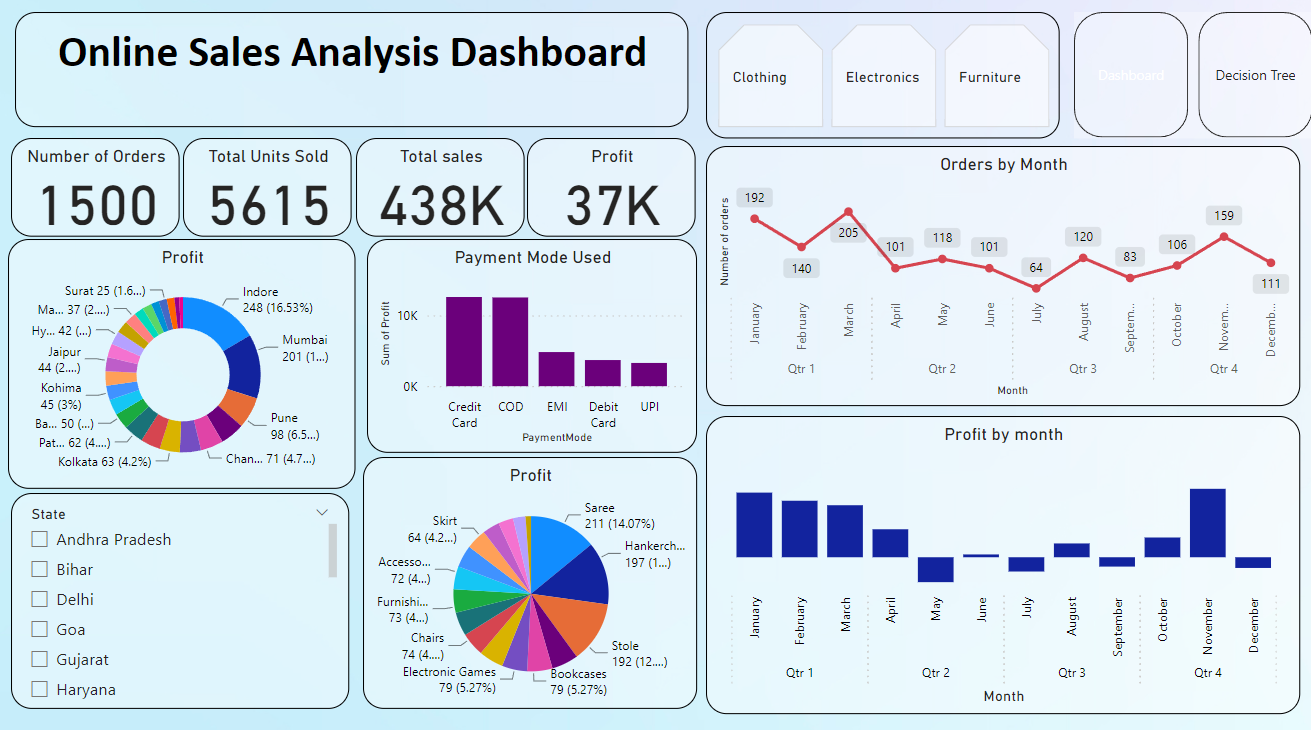

Layout of this report page (visuals, bound fields, positions):
{"tool":"powerbi","page":{"name":"Dashboard","canvas":[1280,720],"ordinal":0},"visuals":[{"type":"card","title":"Number of Orders","fields":{"Values":["CountNonNull(Details.Order ID)"]},"box":[13.6,142,164.4,96.3],"z":0},{"type":"card","title":"Profit","fields":{"Values":["Sum(Details.Profit)"]},"box":[515.5,142,164.4,96.3],"z":1000},{"type":"card","title":"Total Units Sold","fields":{"Values":["Sum(Details.Quantity)"]},"box":[180.9,142,164.4,96.3],"z":2000},{"type":"card","title":"Total sales","fields":{"Values":["Sum(Details.Amount)"]},"box":[349.2,142,164.4,96.3],"z":3000},{"type":"lineChart","title":"Orders by Month","fields":{"Y":["CountNonNull(Details.Order ID)"],"Category":["Orders.Order Date.Variation.Date Hierarchy.Quarter","Orders.Order Date.Variation.Date Hierarchy.Month"]},"box":[689.6,149.8,577.8,252.9],"z":4000},{"type":"clusteredColumnChart","title":"Profit by month","fields":{"Category":["Orders.Order Date.Variation.Date Hierarchy.Quarter","Orders.Order Date.Variation.Date Hierarchy.Month"],"Y":["Sum(Details.Profit)"]},"box":[689.6,412.4,577.8,289.8],"z":5000},{"type":"clusteredColumnChart","title":"Payment Mode Used","fields":{"Y":["Sum(Details.Profit)"],"Category":["Details.PaymentMode"]},"box":[359.9,240.2,321,208.1],"z":6000},{"type":"advancedSlicerVisual","title":"Profit","fields":{"Values":["Details.Category"]},"box":[689.6,19.5,344.3,122.6],"z":7000},{"type":"pieChart","title":"Profit","fields":{"Y":["CountNonNull(Details.Order ID)"],"Category":["Details.Sub-Category"]},"box":[356,452.3,324.9,245.1],"z":8000},{"type":"donutChart","title":"Profit","fields":{"Y":["CountNonNull(Details.Order ID)"],"Category":["Orders.City"]},"box":[10.7,240.2,338.5,243.2],"z":9000},{"type":"slicer","title":"Profit","fields":{"Values":["Orders.State"]},"box":[13.6,487.3,328.8,210.1],"z":10000},{"type":"pageNavigator","box":[1047.5,19.5,232.5,122.6],"z":11000},{"type":"textbox","box":[17.5,19.5,654.6,111.9],"z":12000}]}

Visuals, with their boxes in screenshot pixels (x1, y1, x2, y2), scaled from the page's 1280x720 canvas onto the 1311x730 screenshot:
"Number of Orders" card: (left=14, top=144, right=182, bottom=242)
"Profit" card: (left=528, top=144, right=696, bottom=242)
"Total Units Sold" card: (left=185, top=144, right=354, bottom=242)
"Total sales" card: (left=358, top=144, right=526, bottom=242)
"Orders by Month" lineChart: (left=706, top=152, right=1298, bottom=408)
"Profit by month" clusteredColumnChart: (left=706, top=418, right=1298, bottom=712)
"Payment Mode Used" clusteredColumnChart: (left=369, top=244, right=697, bottom=455)
"Profit" advancedSlicerVisual: (left=706, top=20, right=1059, bottom=144)
"Profit" pieChart: (left=365, top=459, right=697, bottom=707)
"Profit" donutChart: (left=11, top=244, right=358, bottom=490)
"Profit" slicer: (left=14, top=494, right=351, bottom=707)
pageNavigator: (left=1073, top=20, right=1310, bottom=144)
textbox: (left=18, top=20, right=688, bottom=133)
